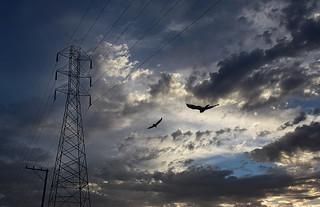power_tower: (47, 41, 101, 207)
